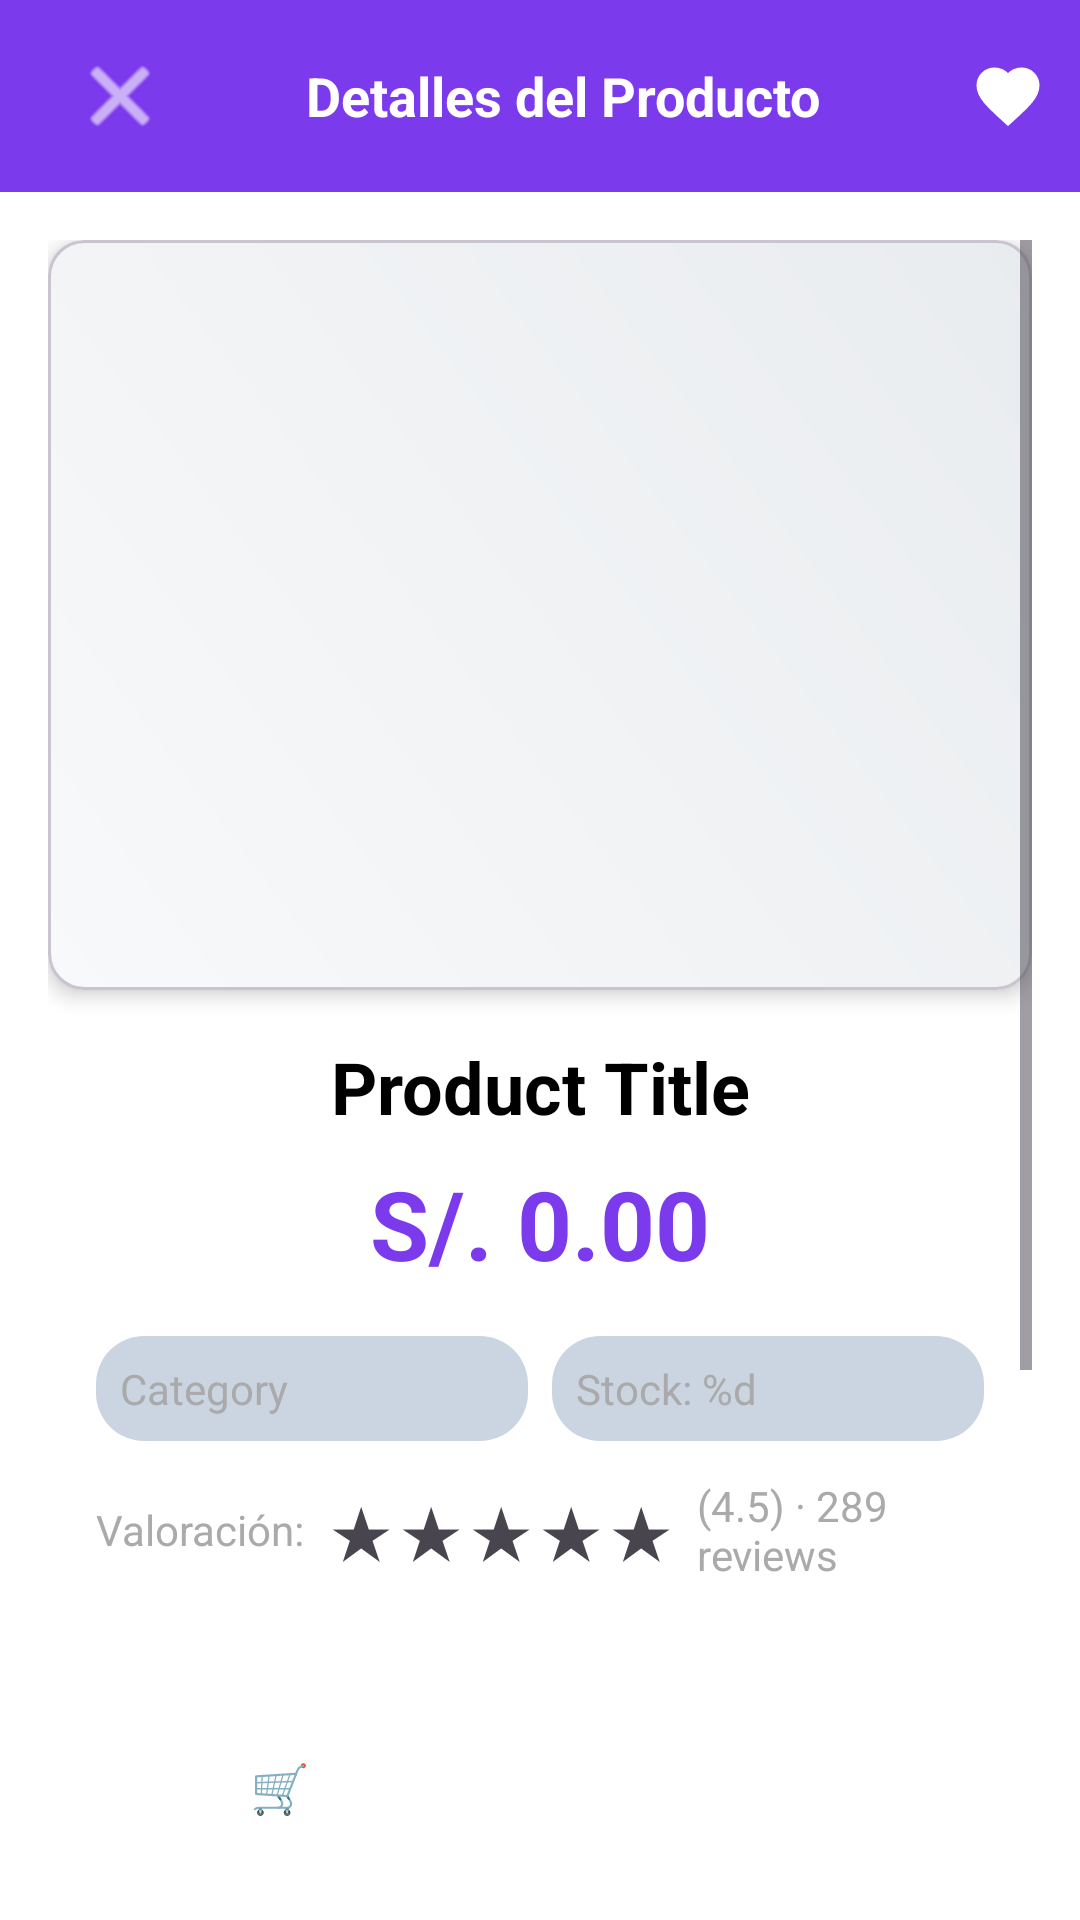

Where icons sit on this 1080w x 1920h app screen, as (x1, y1, x2, y2):
Favorito: (976, 67, 1040, 126)
